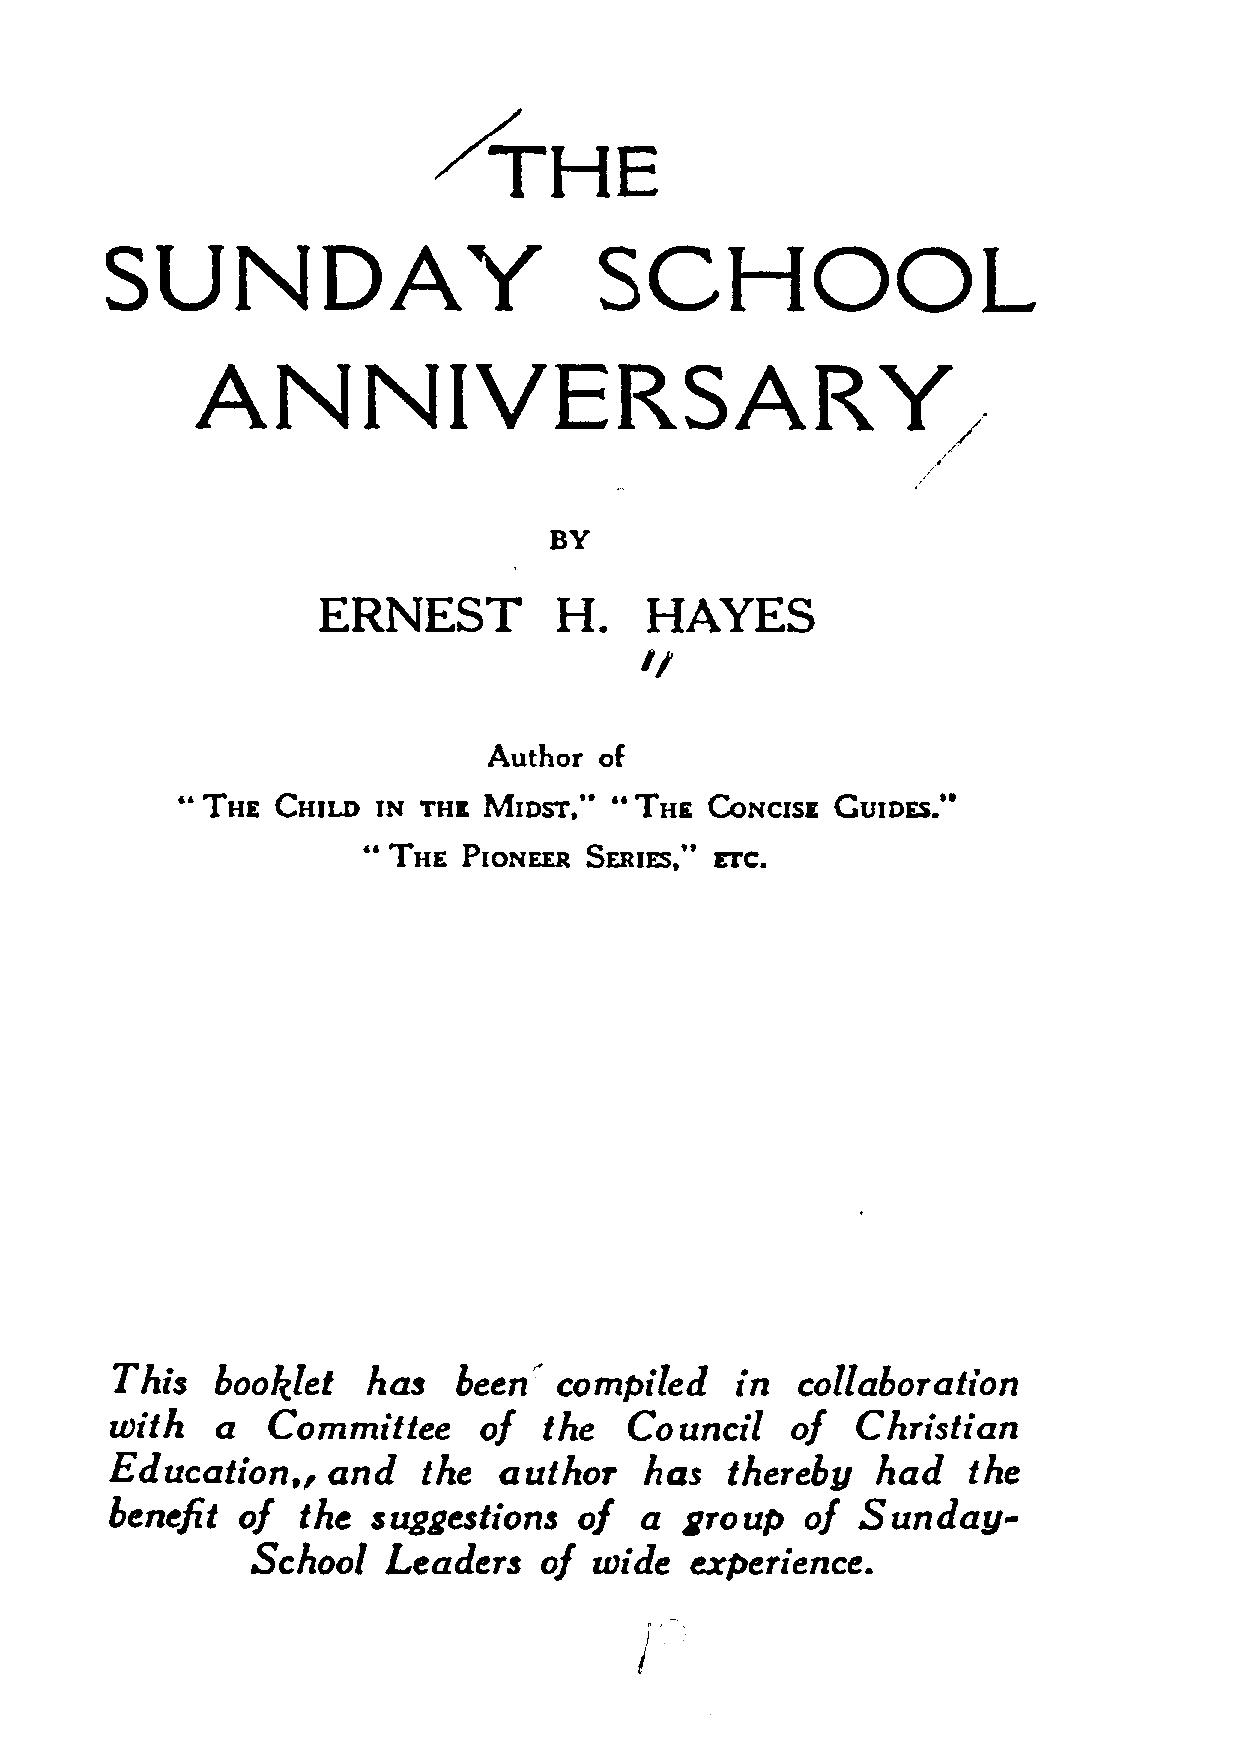author: (317, 527, 815, 633)
title: (102, 140, 1037, 431)
